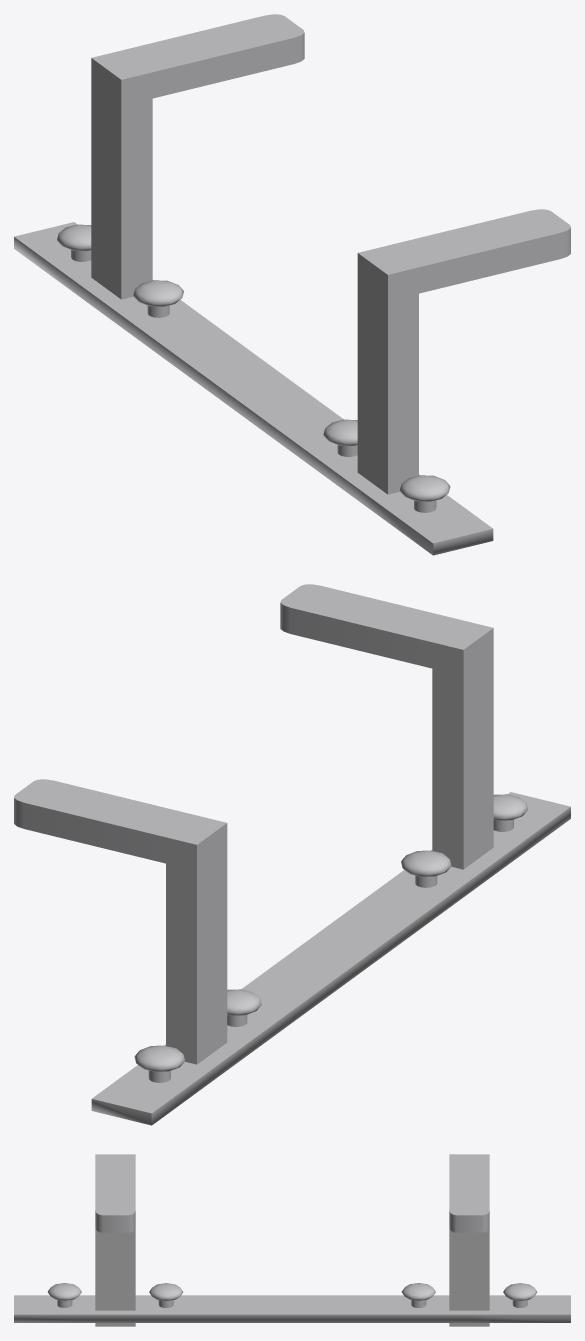
File: Faucet.fbx
3 renders of one model, top to bottom at view 1: azimuth 30°, elevation 25°; view 2: azimuth 150°, elevation 25°; view 3: azimuth 270°, elevation 25°, orthographic. The views are drawn at different scales.
Parts seen in each view (by area): view 1: Faucet; view 2: Faucet; view 3: Faucet.
Boxes of the visible parts, left/top/right/bottom form: Faucet: left=14, top=14, right=570, bottom=555; Faucet: left=14, top=584, right=570, bottom=1125; Faucet: left=14, top=1154, right=570, bottom=1326.
Bounding box in the file's own units: 0.9646 × 1.1 × 3.44.
Materials: 1 (1 with a texture image).
